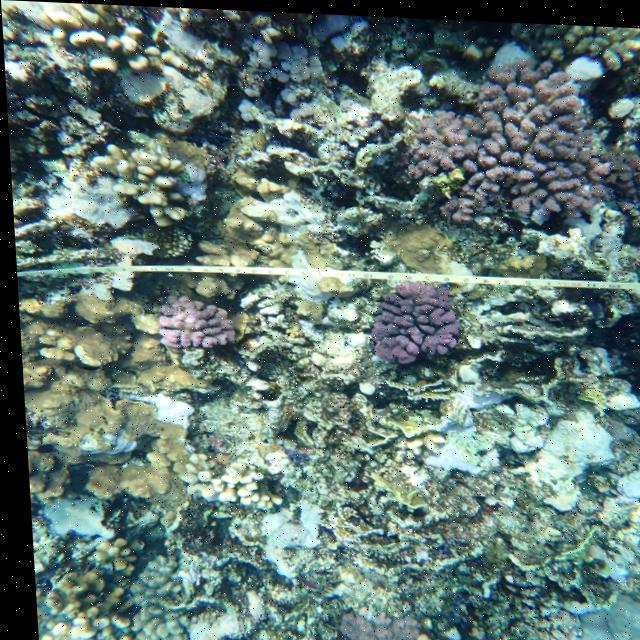Bleached Coral: (500, 386, 612, 522), (163, 437, 282, 513), (236, 492, 332, 580), (249, 190, 336, 240)
Healthy Coral: (404, 75, 609, 218), (367, 277, 464, 362), (148, 299, 243, 354)
